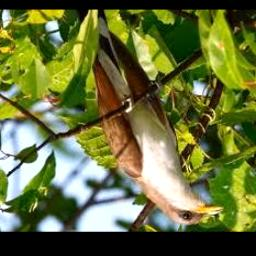Cuckoo: (84, 10, 222, 227)
